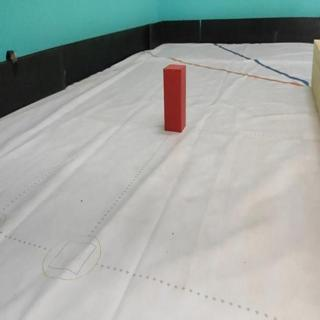redbox: (161, 63, 188, 133)
